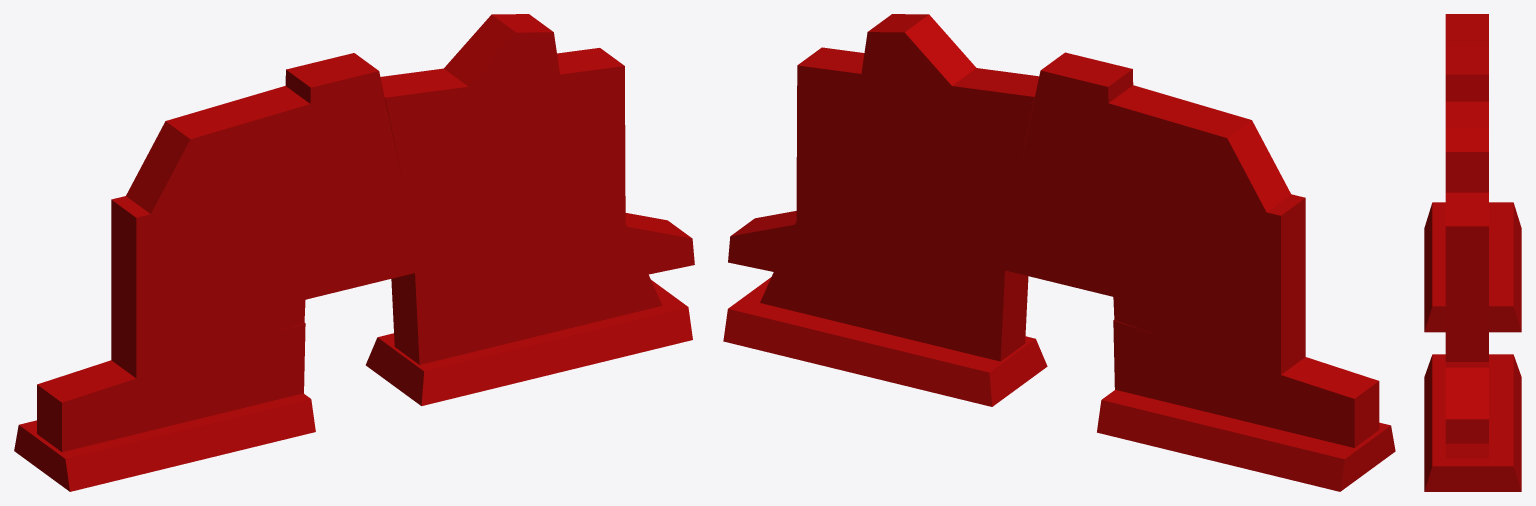
The model's file is SM_Bld_Ruins_Wall_02_Collision.gltf.
The picture shows the model from 3 angles, left to right: view 1: azimuth 30°, elevation 25°; view 2: azimuth 150°, elevation 25°; view 3: azimuth 270°, elevation 25°; orthographic projection. The views are drawn at different scales.
Parts seen in each view (by area): view 1: SM_Bld_Ruins_Wall_02_Collision; view 2: SM_Bld_Ruins_Wall_02_Collision; view 3: SM_Bld_Ruins_Wall_02_Collision.
Part boxes in pixels (bbox=[...]): SM_Bld_Ruins_Wall_02_Collision: bbox=[14, 14, 694, 491]; SM_Bld_Ruins_Wall_02_Collision: bbox=[723, 14, 1395, 491]; SM_Bld_Ruins_Wall_02_Collision: bbox=[1424, 14, 1521, 491].
Size of the model in its own units: 11.36 by 5.76 by 1.73.
